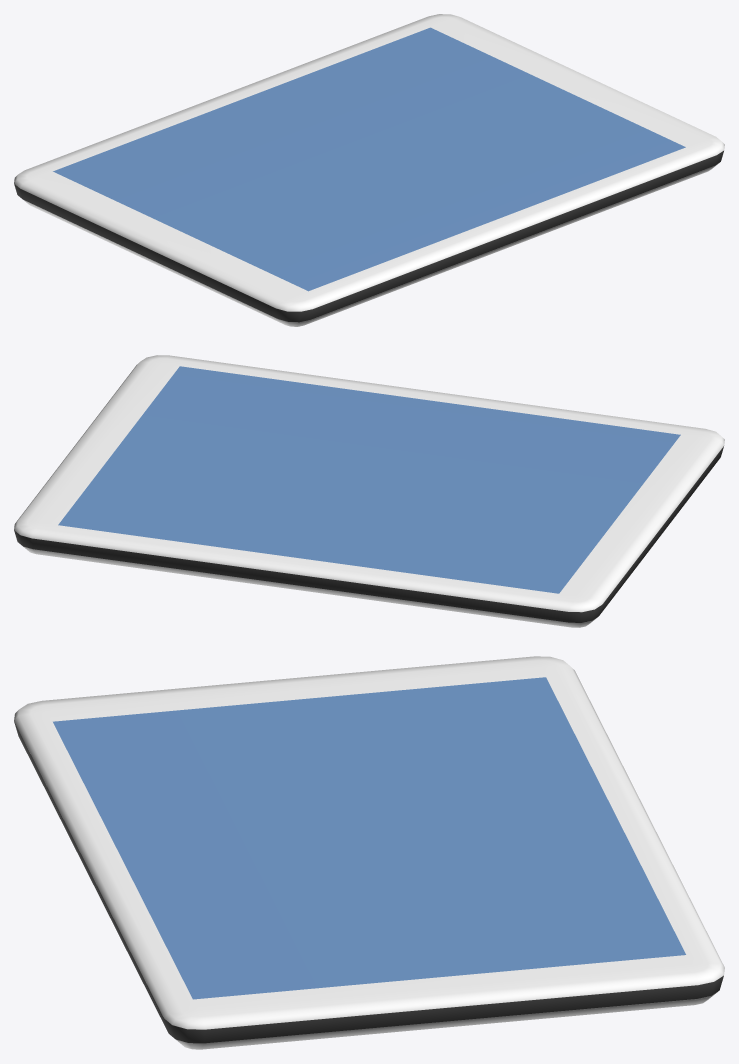
File: tablet.glb
3 views of the same model, one above another, from view 1: azimuth 30°, elevation 25°; view 2: azimuth 150°, elevation 25°; view 3: azimuth 270°, elevation 25° (orthographic). The views are drawn at different scales.
Visible parts, largest first — view 1: Tablet; view 2: Tablet; view 3: Tablet.
Boxes of the visible parts, <box> form: Tablet: <box>14,14,724,326</box>; Tablet: <box>14,355,724,627</box>; Tablet: <box>14,656,724,1049</box>.
Bounding box in the file's own units: 0.9016 × 0.0425 × 0.7315.
